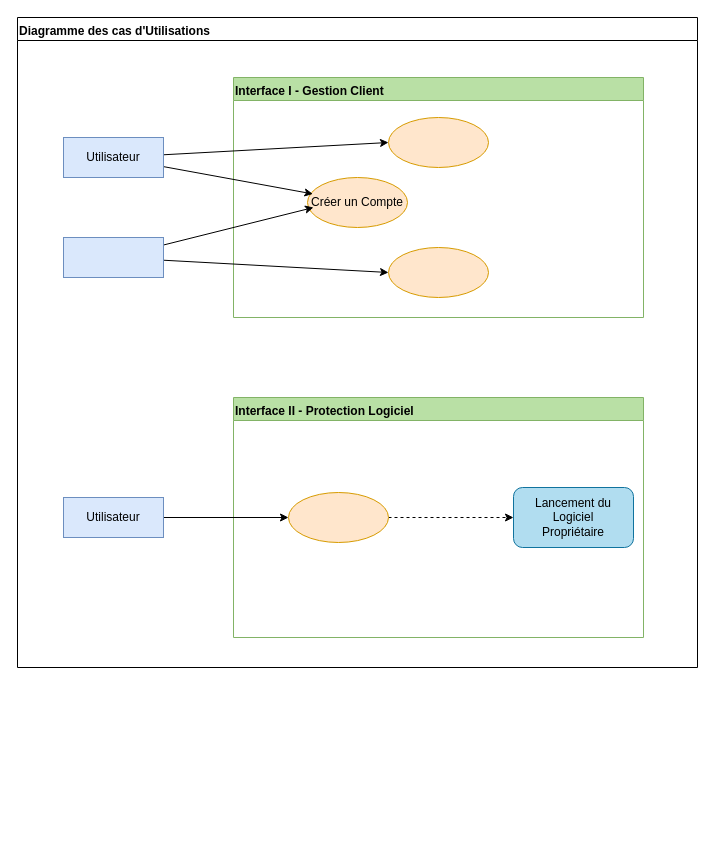
The diagram is 715 pixels wide and 845 high, and some of its shapes have lost their labels. The centre of each missing label's shape, as x and y in pixels:
"Accorder une licence" belongs at (x=438, y=272).
"Activer une licence" belongs at (x=338, y=517).
"Administrateur" belongs at (x=113, y=257).
"Demander une licence" belongs at (x=438, y=142).
